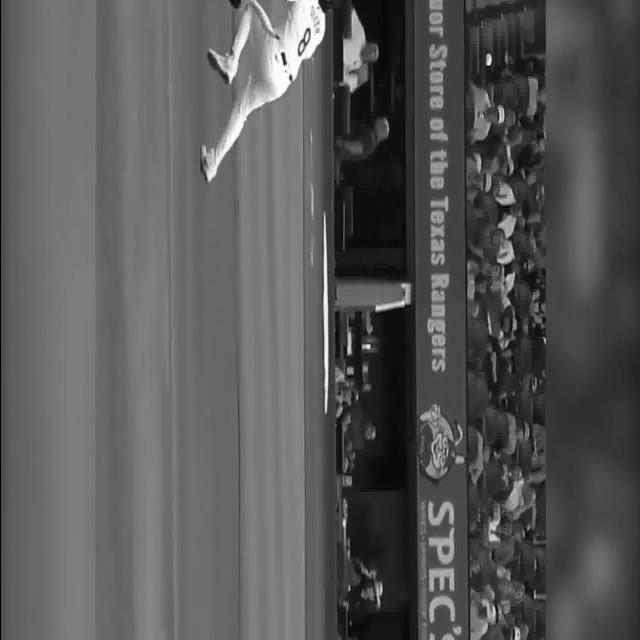baseball: (484, 53, 491, 67)
shoe: (206, 49, 236, 84), (199, 144, 211, 182)
